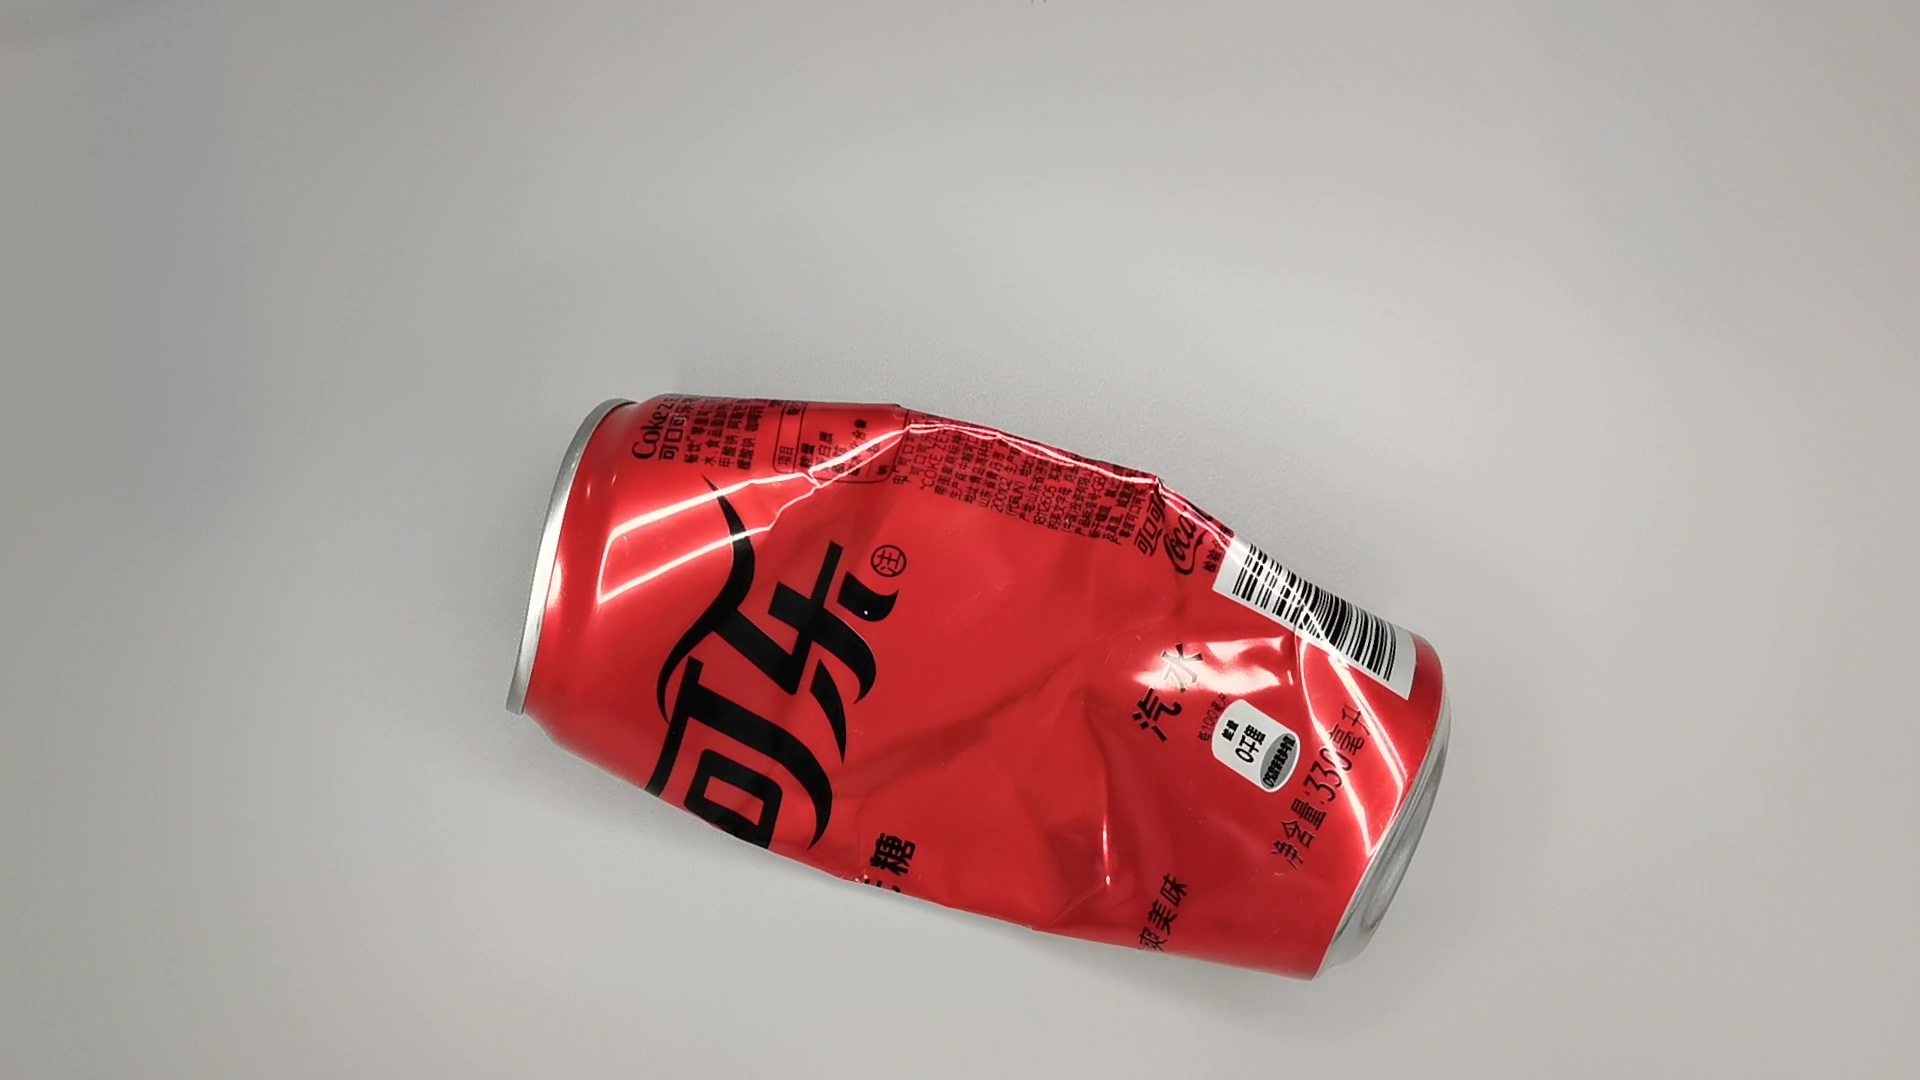can: (497, 386, 1466, 993)
